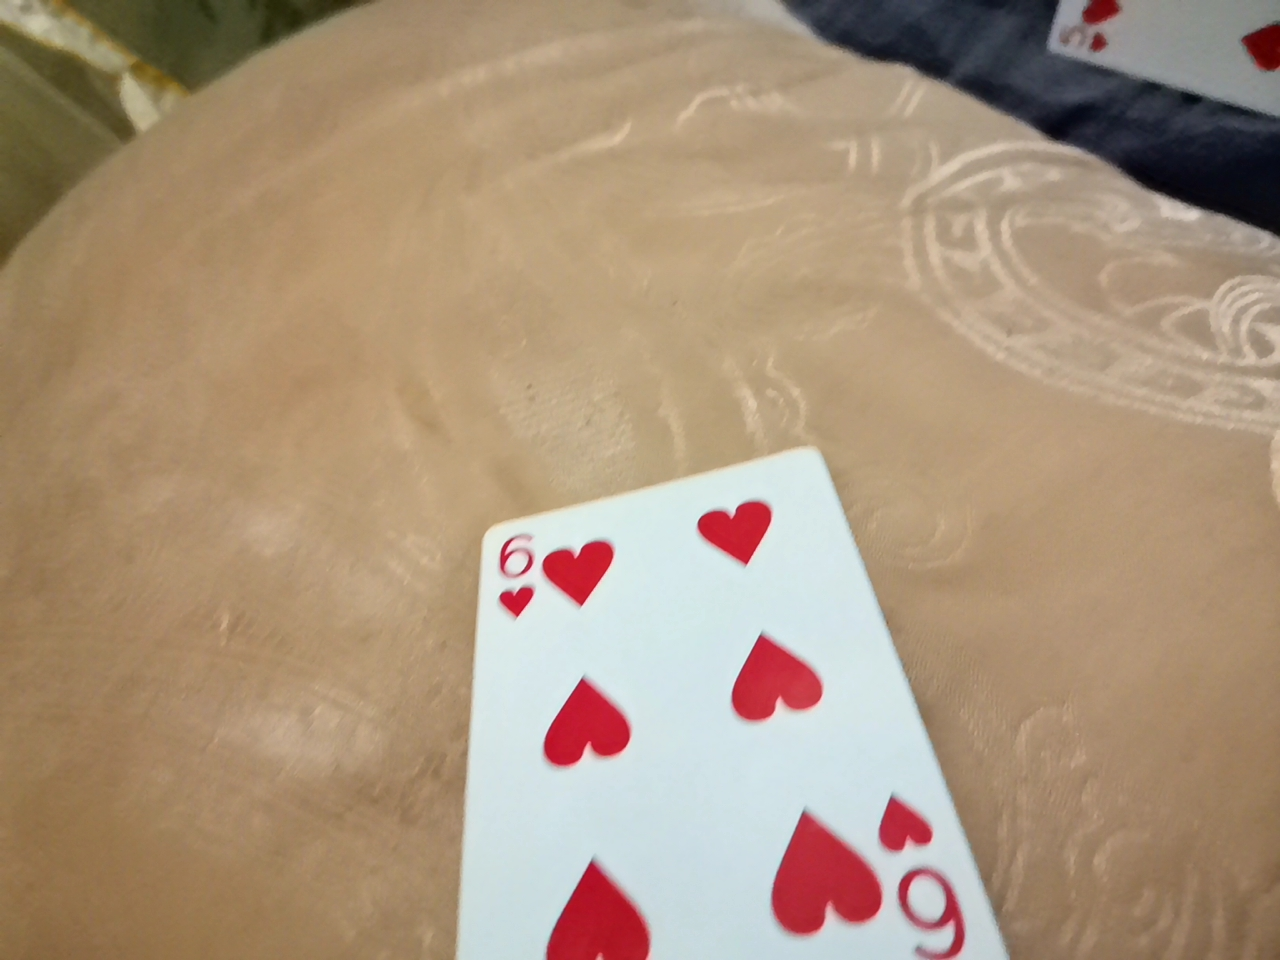hx 6: (459, 422, 1008, 960)
